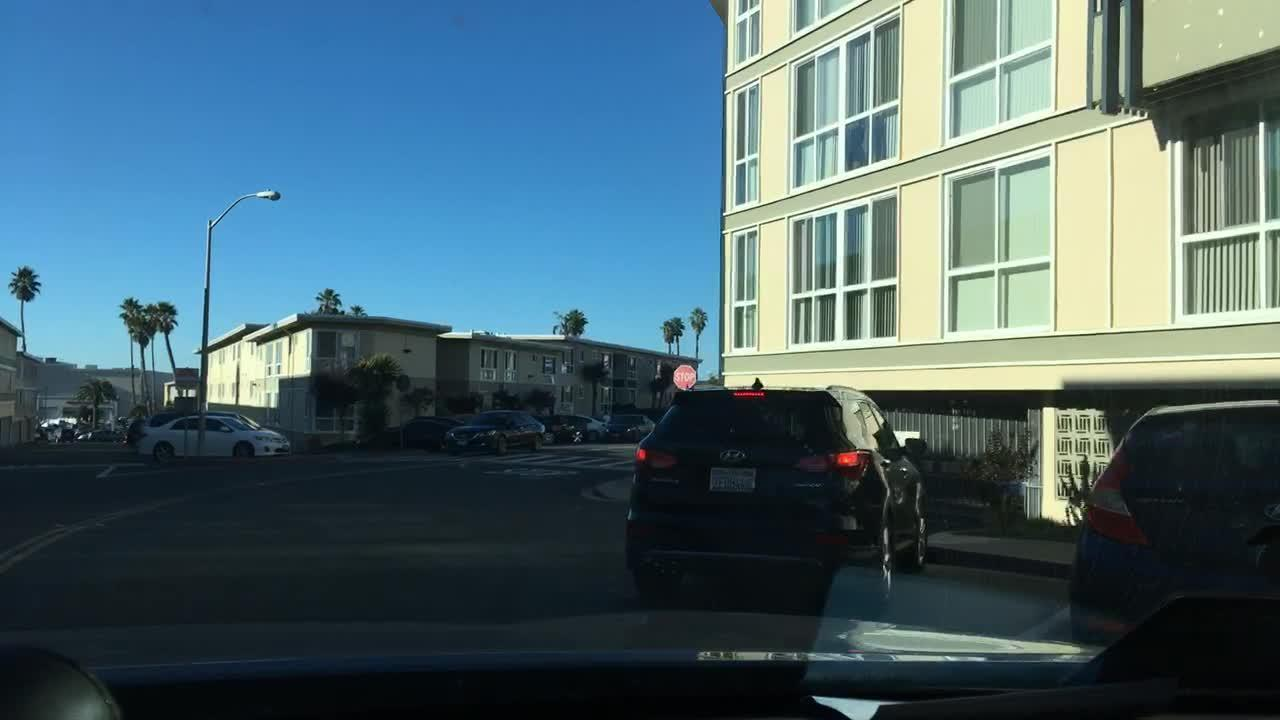Hyundai: (719, 446, 748, 468)
